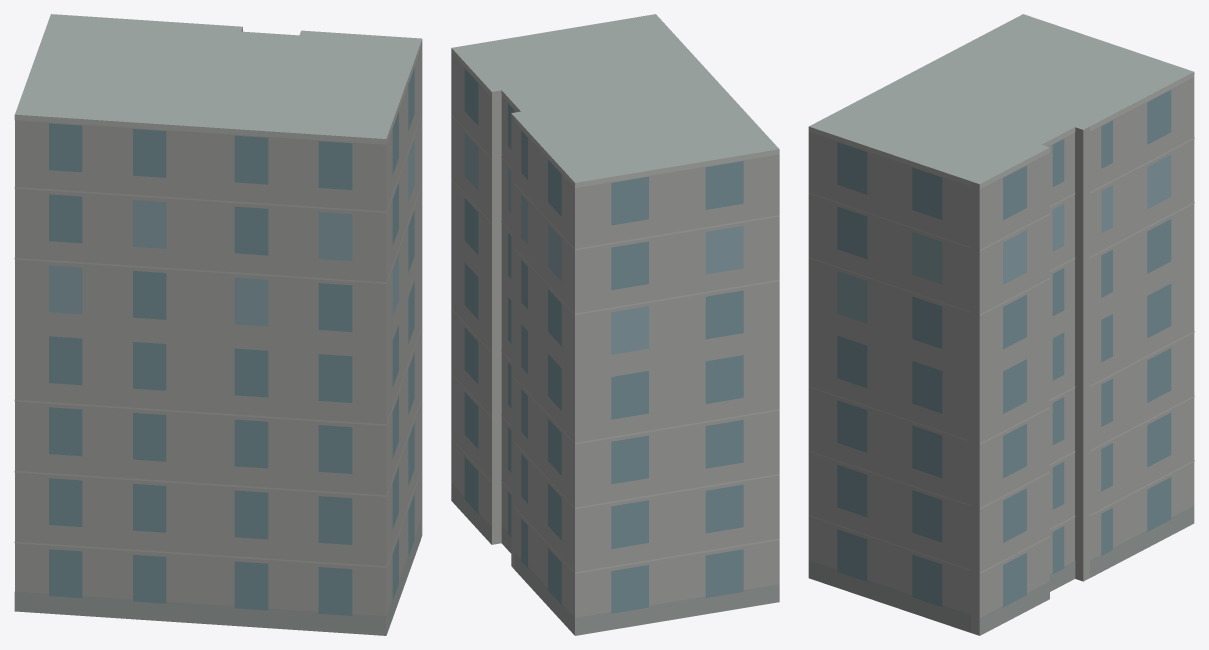
Rendered from survey-upis-33015588.glb.
3 renders of one model, left to right at view 1: azimuth 30°, elevation 25°; view 2: azimuth 150°, elevation 25°; view 3: azimuth 270°, elevation 25°, orthographic. The views are drawn at different scales.
Parts seen in each view (by area): view 1: survey-upis-33015588.tmp; view 2: survey-upis-33015588.tmp; view 3: survey-upis-33015588.tmp.
Part boxes in pixels (x1,y1,x2,y2): survey-upis-33015588.tmp: (14, 14, 422, 635); survey-upis-33015588.tmp: (451, 14, 779, 635); survey-upis-33015588.tmp: (808, 14, 1194, 635).
Bounding box in the file's own units: 17.28 × 21.35 × 16.54.
